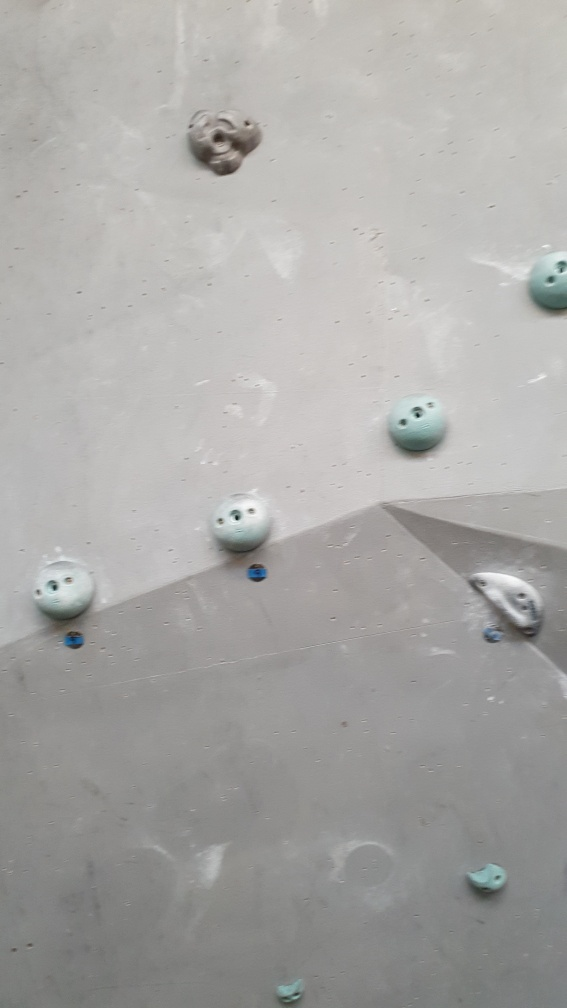Hand Start: (57, 624, 95, 653), (482, 620, 509, 651), (242, 560, 270, 587)
Jug: (185, 103, 269, 181)
Sloper: (384, 388, 455, 463), (30, 559, 97, 624), (209, 491, 275, 555), (528, 240, 567, 317)
